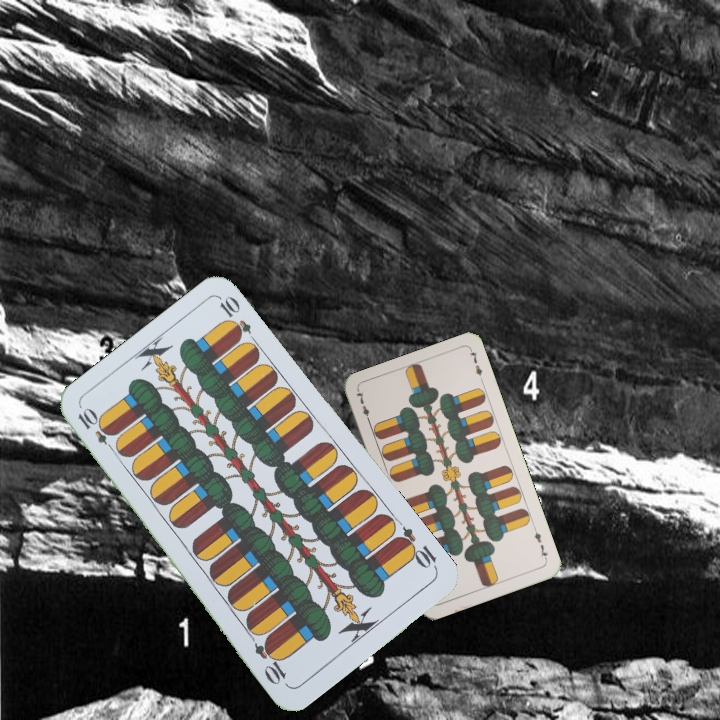E10: (391, 523, 440, 573), (73, 404, 120, 456)
E7: (352, 387, 373, 426), (530, 524, 550, 563)
